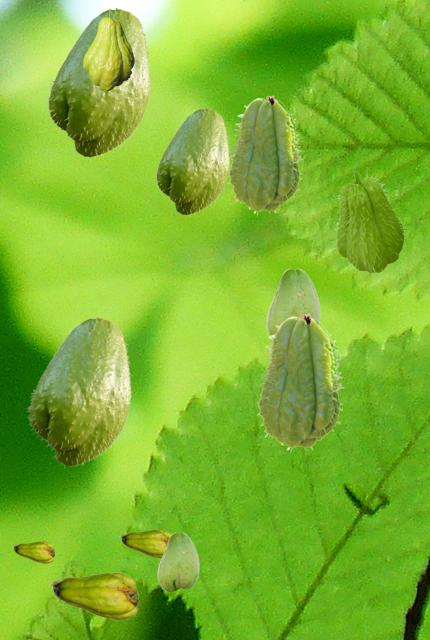sayote: (45, 8, 150, 158), (26, 317, 131, 467), (256, 313, 343, 451), (227, 95, 302, 214), (154, 108, 229, 215), (334, 170, 405, 272), (49, 572, 137, 619), (83, 9, 133, 90), (266, 268, 319, 334), (157, 532, 198, 591), (119, 529, 171, 557), (12, 541, 53, 562)
